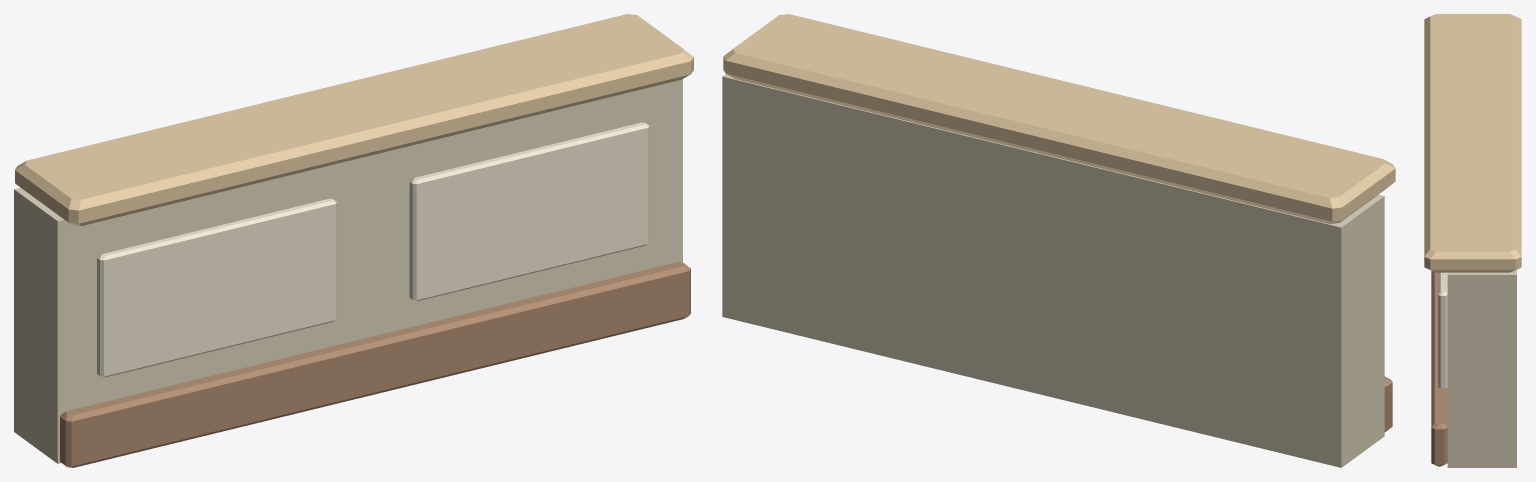
The model's file is lab_wall_low.glb.
3 views of the same model, side by side, from view 1: azimuth 30°, elevation 25°; view 2: azimuth 150°, elevation 25°; view 3: azimuth 270°, elevation 25° (orthographic). The views are drawn at different scales.
Parts seen in each view (by area): view 1: lab_wall_low; view 2: lab_wall_low; view 3: lab_wall_low.
Boxes of the visible parts, x1=… form: lab_wall_low: x1=14, y1=14, x2=693, y2=467; lab_wall_low: x1=722, y1=14, x2=1395, y2=467; lab_wall_low: x1=1424, y1=14, x2=1521, y2=467.
Bounding box in the file's own units: 2.48 × 1.02 × 0.42.
